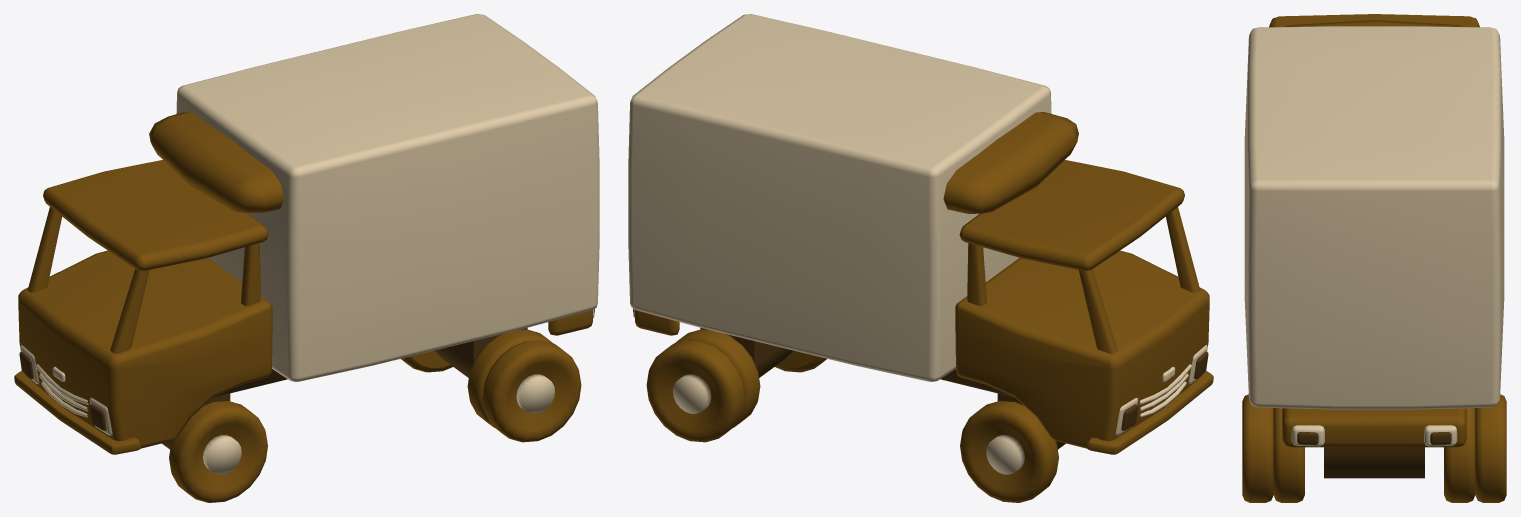
Rendered from ChocolateTruckUV_MDL.fbx.
3 views of the same model, side by side, from view 1: azimuth 30°, elevation 25°; view 2: azimuth 150°, elevation 25°; view 3: azimuth 270°, elevation 25° (orthographic). The views are drawn at different scales.
Visible parts, largest first — view 1: choccy_truck_GEO; view 2: choccy_truck_GEO; view 3: choccy_truck_GEO.
Part boxes in pixels (left/top/right/bottom): choccy_truck_GEO: left=14, top=14, right=599, bottom=502; choccy_truck_GEO: left=628, top=14, right=1213, bottom=502; choccy_truck_GEO: left=1242, top=14, right=1506, bottom=502.
Bounding box in the file's own units: 490 × 309 × 211.
